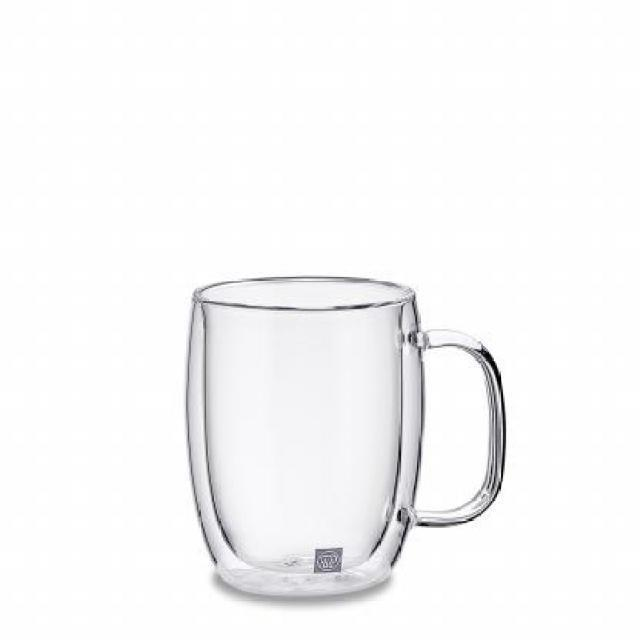taza: (183, 274, 508, 602)
